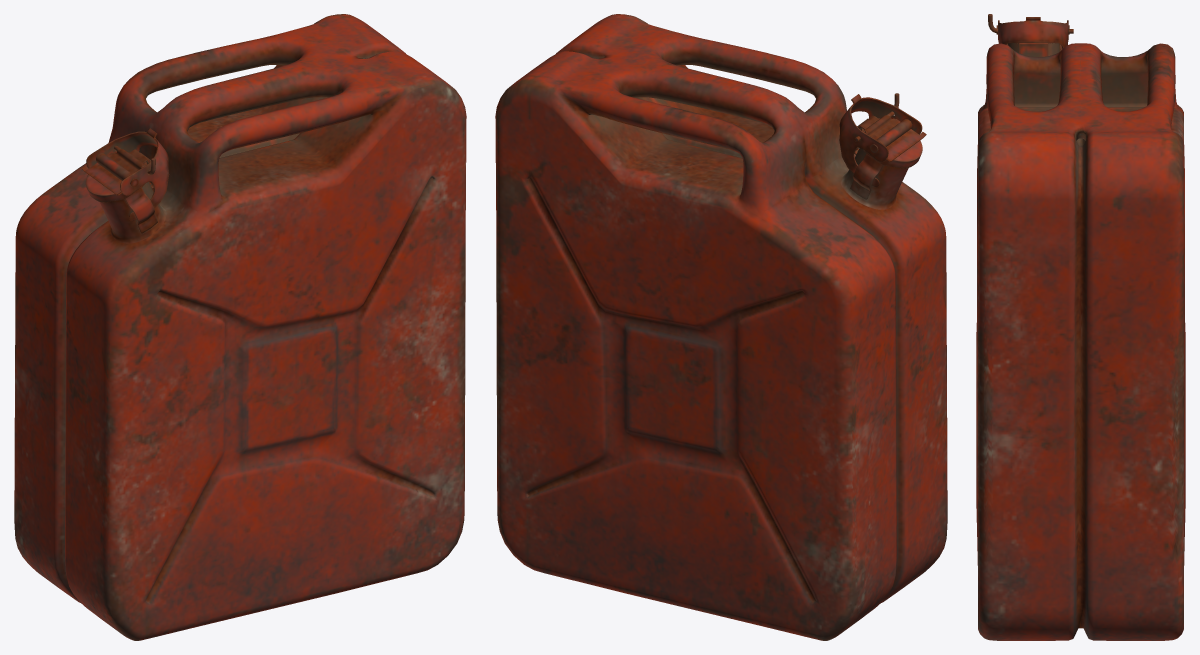
The model's file is jerrycan.obj.
3 renders of one model, left to right at view 1: azimuth 30°, elevation 25°; view 2: azimuth 150°, elevation 25°; view 3: azimuth 270°, elevation 25°, orthographic. The views are drawn at different scales.
Visible parts, largest first — view 1: jerrycan; view 2: jerrycan; view 3: jerrycan.
Part boxes in pixels (x1=…): jerrycan: x1=14, y1=14, x2=466, y2=640; jerrycan: x1=495, y1=14, x2=947, y2=640; jerrycan: x1=976, y1=14, x2=1185, y2=640.
Size of the model in its own units: 0.7697 by 1 by 0.3773.
